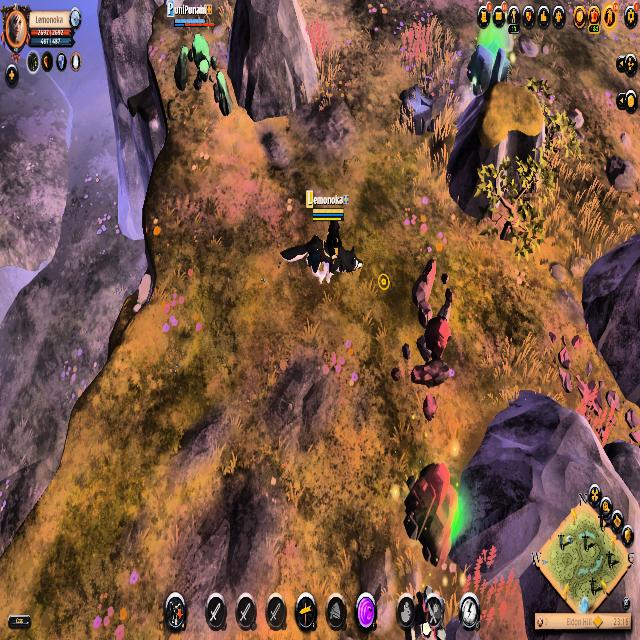rock tier 5: (404, 459, 460, 569)
